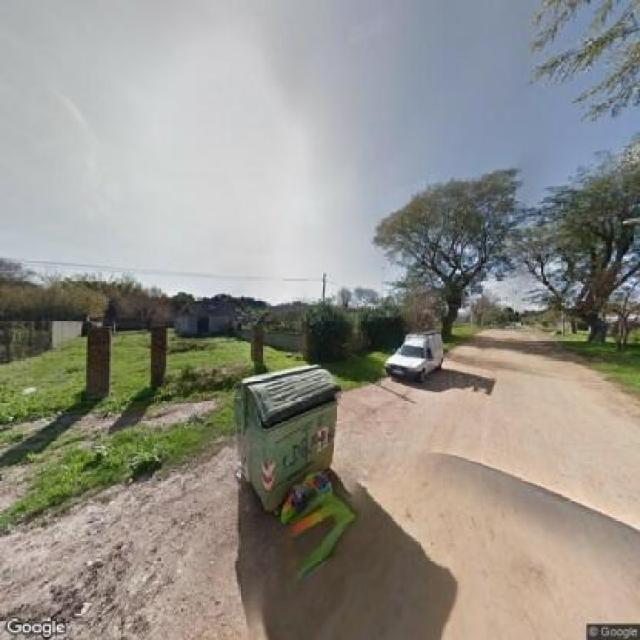garbage: (274, 471, 336, 526)
